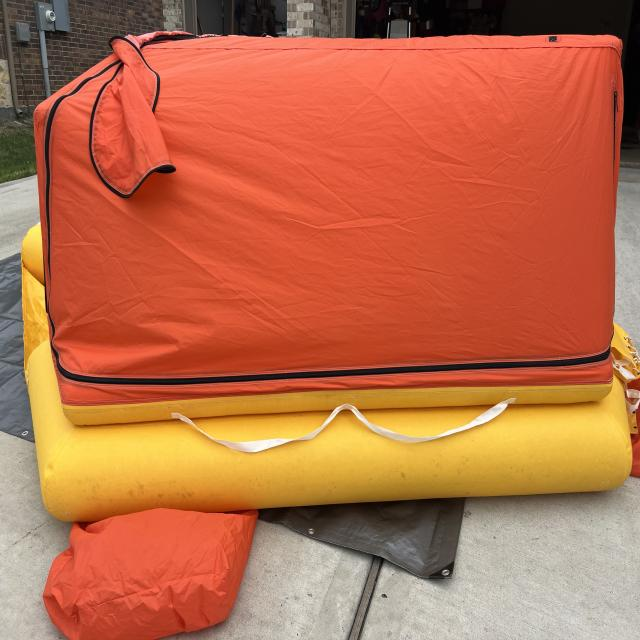Multi-person_life_raft: (21, 28, 640, 639)
